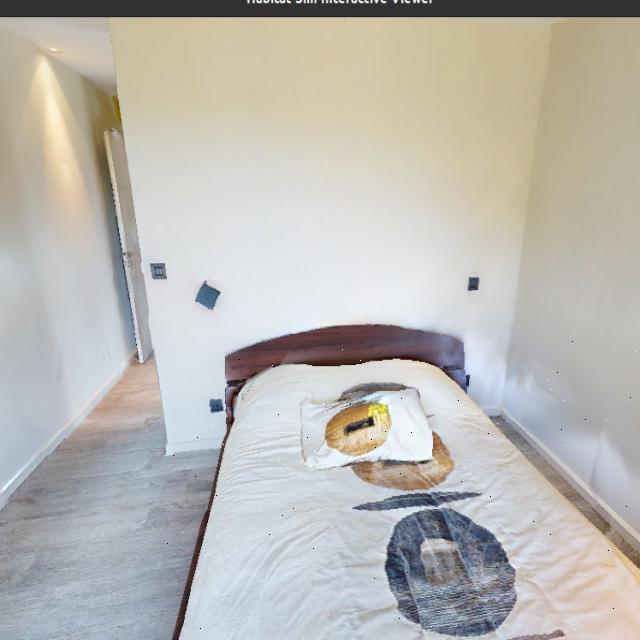bed: (163, 333, 640, 640)
